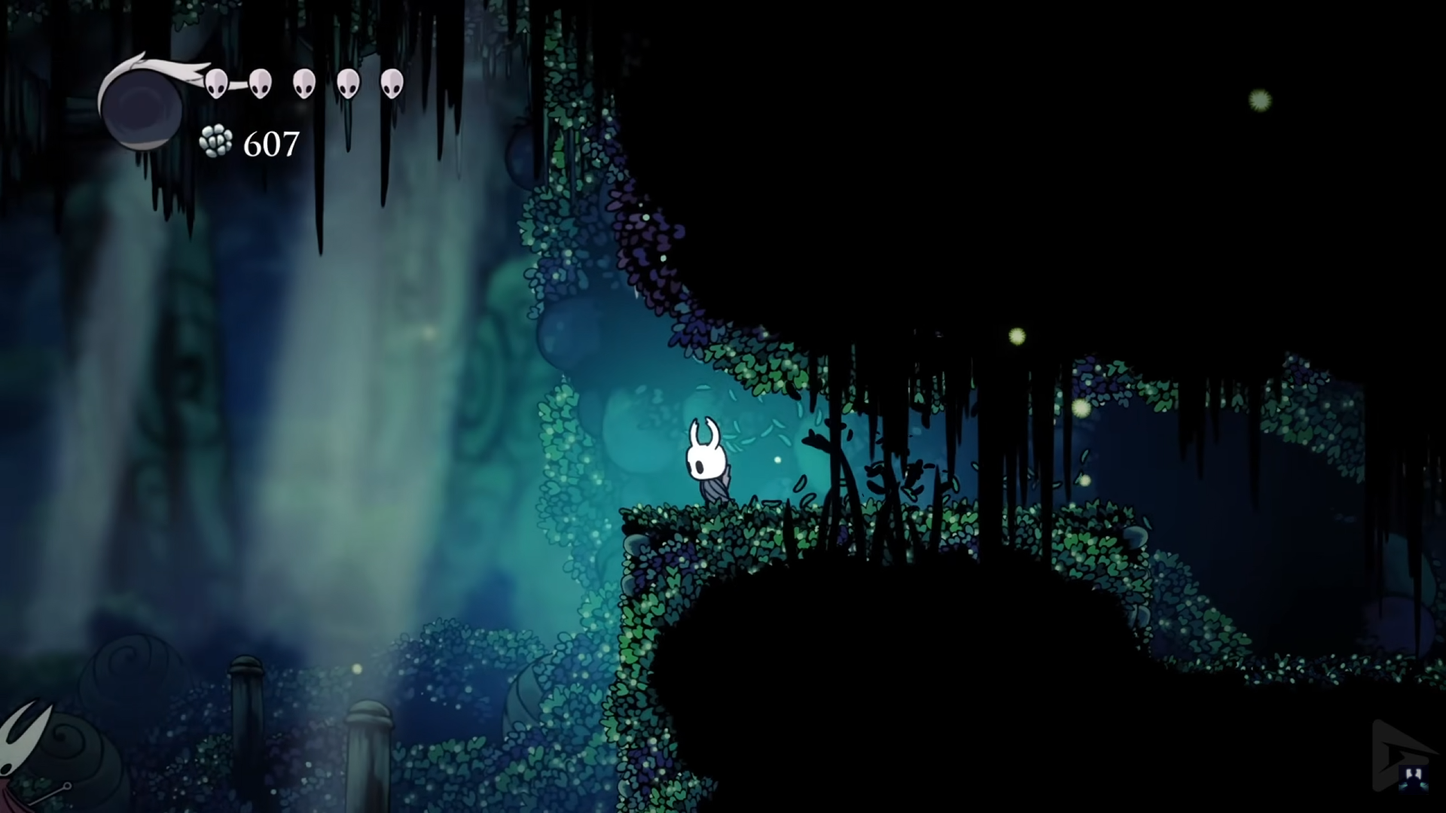HK: (678, 416, 737, 508)
